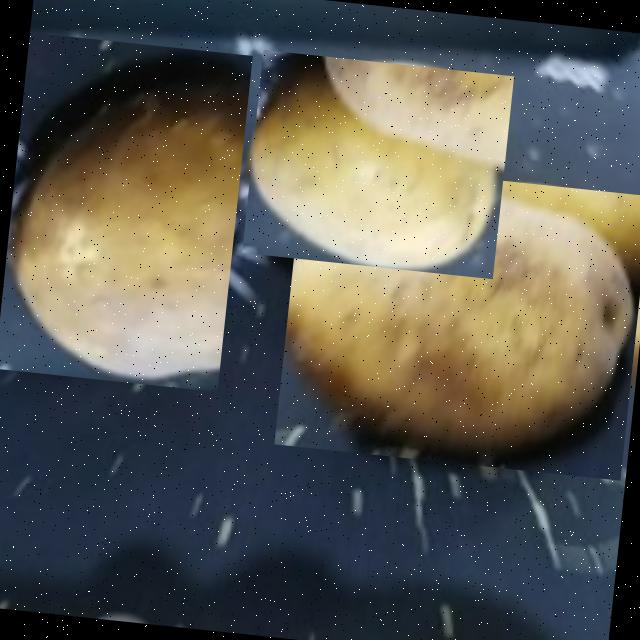Damaged potato: (273, 158, 640, 479), (0, 30, 251, 390)
Potato: (240, 49, 512, 278)
